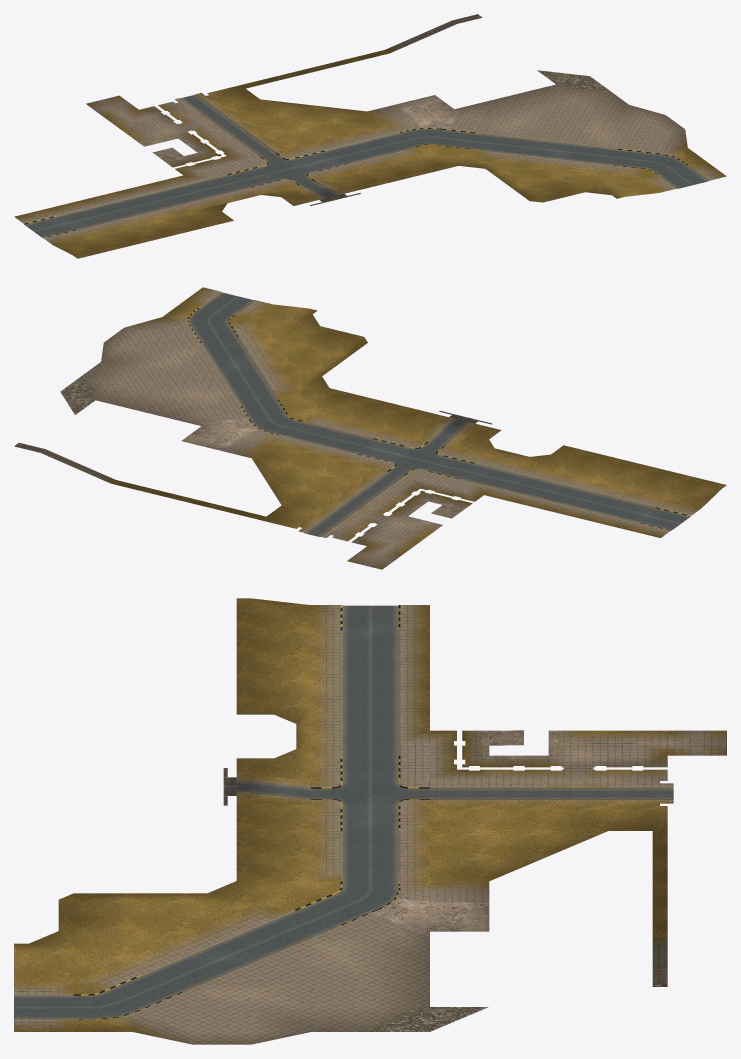
File: M11Z1_Floor_Zone8.glb
3 views of the same model, one above another, from view 1: azimuth 30°, elevation 25°; view 2: azimuth 150°, elevation 25°; view 3: azimuth 270°, elevation 25° (orthographic). The views are drawn at different scales.
Parts seen in each view (by area): view 1: M11Z1_FLOOR_ZONE8065, M11Z1_FLOOR_ZONE8017, M11Z1_FLOOR_ZONE8031, M11Z1_FLOOR_ZONE8048, M11Z1_FLOOR_ZONE8067, M11Z1_FLOOR_ZONE8083, M11Z1_FLOOR_ZONE8016, M11Z1_FLOOR_ZONE8081, M11Z1_FLOOR_ZONE8076, M11Z1_FLOOR_ZONE8070, M11Z1_FLOOR_ZONE8072, M11Z1_FLOOR_ZONE8073 (+76 smaller); view 2: M11Z1_FLOOR_ZONE8017, M11Z1_FLOOR_ZONE8044, M11Z1_FLOOR_ZONE8043, M11Z1_FLOOR_ZONE8035, M11Z1_FLOOR_ZONE8036, M11Z1_FLOOR_ZONE8045, M11Z1_FLOOR_ZONE8038, M11Z1_FLOOR_ZONE8042, M11Z1_FLOOR_ZONE8037, M11Z1_FLOOR_ZONE8065, M11Z1_FLOOR_ZONE8014, M11Z1_FLOOR_ZONE8046 (+78 smaller); view 3: M11Z1_FLOOR_ZONE8003, M11Z1_FLOOR_ZONE8014, M11Z1_FLOOR_ZONE8029, M11Z1_FLOOR_ZONE8009, M11Z1_FLOOR_ZONE8046, M11Z1_FLOOR_ZONE8017, M11Z1_FLOOR_ZONE8065, M11Z1_FLOOR_ZONE8013, M11Z1_FLOOR_ZONE8008, M11Z1_FLOOR_ZONE8067, M11Z1_FLOOR_ZONE8083, M11Z1_FLOOR_ZONE8031 (+83 smaller).
Part boxes in pixels (box(x1,y1,x2,y2)): M11Z1_FLOOR_ZONE8065: box(440, 123, 501, 148); M11Z1_FLOOR_ZONE8017: box(637, 129, 687, 156); M11Z1_FLOOR_ZONE8031: box(542, 134, 598, 159); M11Z1_FLOOR_ZONE8048: box(497, 127, 542, 153); M11Z1_FLOOR_ZONE8067: box(508, 107, 560, 131); M11Z1_FLOOR_ZONE8083: box(455, 101, 507, 124); M11Z1_FLOOR_ZONE8016: box(599, 140, 655, 166); M11Z1_FLOOR_ZONE8081: box(387, 117, 439, 140); M11Z1_FLOOR_ZONE8076: box(217, 159, 270, 181); M11Z1_FLOOR_ZONE8070: box(14, 208, 66, 231); M11Z1_FLOOR_ZONE8072: box(82, 192, 134, 214); M11Z1_FLOOR_ZONE8073: box(116, 183, 168, 206); M11Z1_FLOOR_ZONE8017: box(125, 317, 196, 336); M11Z1_FLOOR_ZONE8044: box(348, 402, 403, 430); M11Z1_FLOOR_ZONE8043: box(384, 411, 438, 439); M11Z1_FLOOR_ZONE8035: box(666, 480, 721, 508); M11Z1_FLOOR_ZONE8036: box(631, 471, 686, 499); M11Z1_FLOOR_ZONE8045: box(313, 394, 367, 421); M11Z1_FLOOR_ZONE8038: box(560, 454, 615, 482); M11Z1_FLOOR_ZONE8042: box(419, 420, 474, 447); M11Z1_FLOOR_ZONE8037: box(596, 463, 650, 490); M11Z1_FLOOR_ZONE8065: box(219, 392, 282, 420); M11Z1_FLOOR_ZONE8014: box(249, 343, 302, 366); M11Z1_FLOOR_ZONE8046: box(279, 390, 332, 413); M11Z1_FLOOR_ZONE8003: box(14, 950, 73, 981); M11Z1_FLOOR_ZONE8014: box(132, 925, 203, 957); M11Z1_FLOOR_ZONE8029: box(192, 899, 269, 931); M11Z1_FLOOR_ZONE8009: box(73, 950, 140, 984); M11Z1_FLOOR_ZONE8046: box(251, 874, 316, 909); M11Z1_FLOOR_ZONE8017: box(132, 1001, 192, 1044); M11Z1_FLOOR_ZONE8065: box(291, 902, 377, 937); M11Z1_FLOOR_ZONE8013: box(132, 899, 192, 931); M11Z1_FLOOR_ZONE8008: box(73, 925, 132, 956); M11Z1_FLOOR_ZONE8067: box(288, 956, 370, 981); M11Z1_FLOOR_ZONE8083: box(358, 927, 429, 956); M11Z1_FLOOR_ZONE8031: box(183, 957, 266, 983).
Size of the model in its own units: 140 by 3.06 by 96.
Materials: 19 (19 with a texture image).
